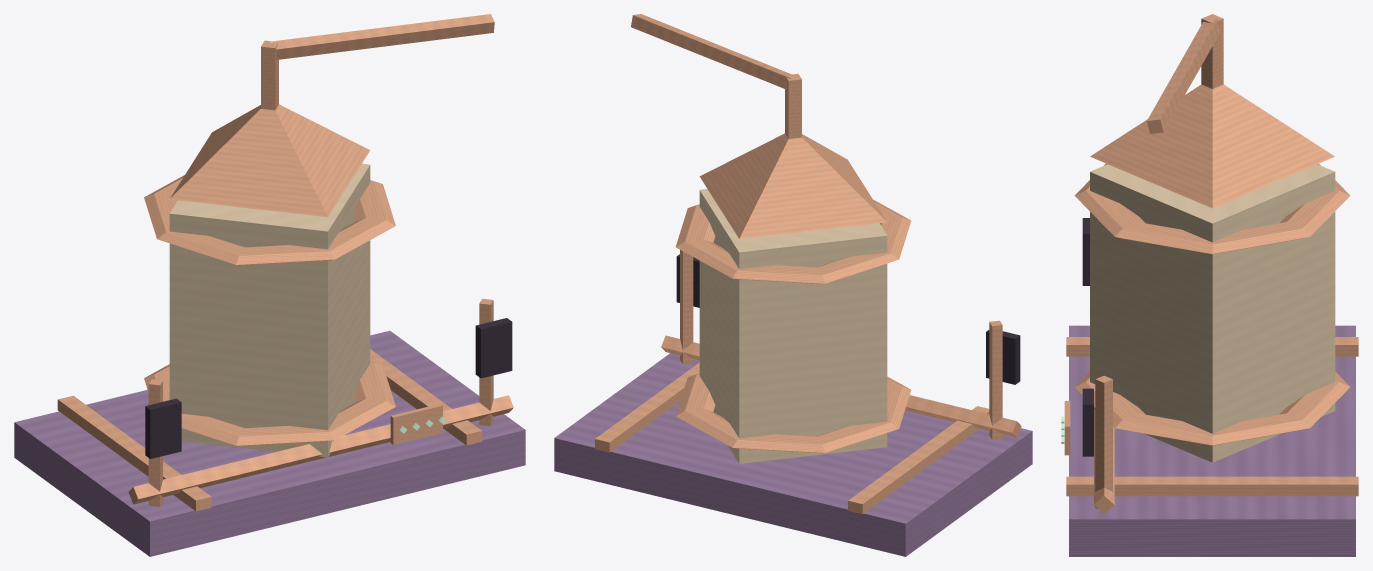
Rendered from atlas100-s085-a02.glb.
The picture shows the model from 3 angles, left to right: view 1: azimuth 30°, elevation 25°; view 2: azimuth 150°, elevation 25°; view 3: azimuth 270°, elevation 25°; orthographic projection. The views are drawn at different scales.
Parts seen in each view (by area): view 1: atlas100-s085-a02:part-003, atlas100-s085-a02:part-000, atlas100-s085-a02:part-007, atlas100-s085-a02:part-005, atlas100-s085-a02:part-004, atlas100-s085-a02:part-014, atlas100-s085-a02:part-009, atlas100-s085-a02:part-001, atlas100-s085-a02:part-013, atlas100-s085-a02:part-002, atlas100-s085-a02:part-011, atlas100-s085-a02:part-015 (+3 smaller); view 2: atlas100-s085-a02:part-000, atlas100-s085-a02:part-003, atlas100-s085-a02:part-007, atlas100-s085-a02:part-005, atlas100-s085-a02:part-004, atlas100-s085-a02:part-001, atlas100-s085-a02:part-009, atlas100-s085-a02:part-014, atlas100-s085-a02:part-002, atlas100-s085-a02:part-010, atlas100-s085-a02:part-012, atlas100-s085-a02:part-011 (+1 smaller); view 3: atlas100-s085-a02:part-003, atlas100-s085-a02:part-000, atlas100-s085-a02:part-007, atlas100-s085-a02:part-005, atlas100-s085-a02:part-002, atlas100-s085-a02:part-004, atlas100-s085-a02:part-009, atlas100-s085-a02:part-012, atlas100-s085-a02:part-008, atlas100-s085-a02:part-001, atlas100-s085-a02:part-013, atlas100-s085-a02:part-014 (+2 smaller).
Part boxes in pixels (box(x1,y1,x2,y2)): atlas100-s085-a02:part-003: box(169, 163, 370, 457); atlas100-s085-a02:part-000: box(14, 330, 525, 556); atlas100-s085-a02:part-007: box(170, 104, 370, 217); atlas100-s085-a02:part-005: box(144, 175, 395, 265); atlas100-s085-a02:part-004: box(144, 361, 395, 446); atlas100-s085-a02:part-014: box(128, 395, 513, 504); atlas100-s085-a02:part-009: box(268, 14, 494, 59); atlas100-s085-a02:part-001: box(57, 395, 211, 511); atlas100-s085-a02:part-013: box(475, 318, 512, 378); atlas100-s085-a02:part-002: box(370, 349, 482, 445); atlas100-s085-a02:part-011: box(145, 398, 181, 458); atlas100-s085-a02:part-015: box(390, 404, 442, 444); atlas100-s085-a02:part-000: box(554, 353, 1032, 556); atlas100-s085-a02:part-003: box(699, 189, 887, 463); atlas100-s085-a02:part-007: box(699, 133, 886, 238); atlas100-s085-a02:part-005: box(675, 199, 911, 283); atlas100-s085-a02:part-004: box(675, 373, 911, 453); atlas100-s085-a02:part-001: box(848, 406, 989, 514); atlas100-s085-a02:part-009: box(631, 14, 791, 89); atlas100-s085-a02:part-014: box(661, 335, 1021, 437); atlas100-s085-a02:part-002: box(595, 362, 699, 452); atlas100-s085-a02:part-010: box(989, 320, 1002, 439); atlas100-s085-a02:part-012: box(680, 250, 693, 364); atlas100-s085-a02:part-011: box(986, 330, 1020, 384); atlas100-s085-a02:part-003: box(1090, 164, 1335, 462); atlas100-s085-a02:part-000: box(1069, 325, 1355, 556); atlas100-s085-a02:part-007: box(1090, 84, 1334, 208); atlas100-s085-a02:part-005: box(1074, 163, 1350, 254); atlas100-s085-a02:part-002: box(1066, 476, 1358, 496); atlas100-s085-a02:part-004: box(1075, 371, 1349, 445); atlas100-s085-a02:part-009: box(1147, 18, 1220, 133); atlas100-s085-a02:part-012: box(1095, 375, 1112, 508); atlas100-s085-a02:part-008: box(1201, 14, 1223, 88); atlas100-s085-a02:part-001: box(1066, 337, 1358, 356); atlas100-s085-a02:part-013: box(1082, 388, 1093, 456); atlas100-s085-a02:part-014: box(1094, 409, 1114, 513).
Bounding box in the file's own units: 2.95 × 3.06 × 1.87.
5 materials, 5 textured.
